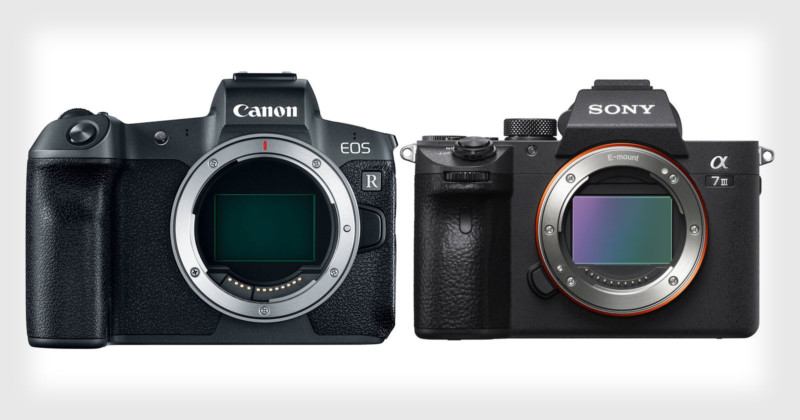camera: (29, 79, 396, 353), (414, 83, 760, 337)
